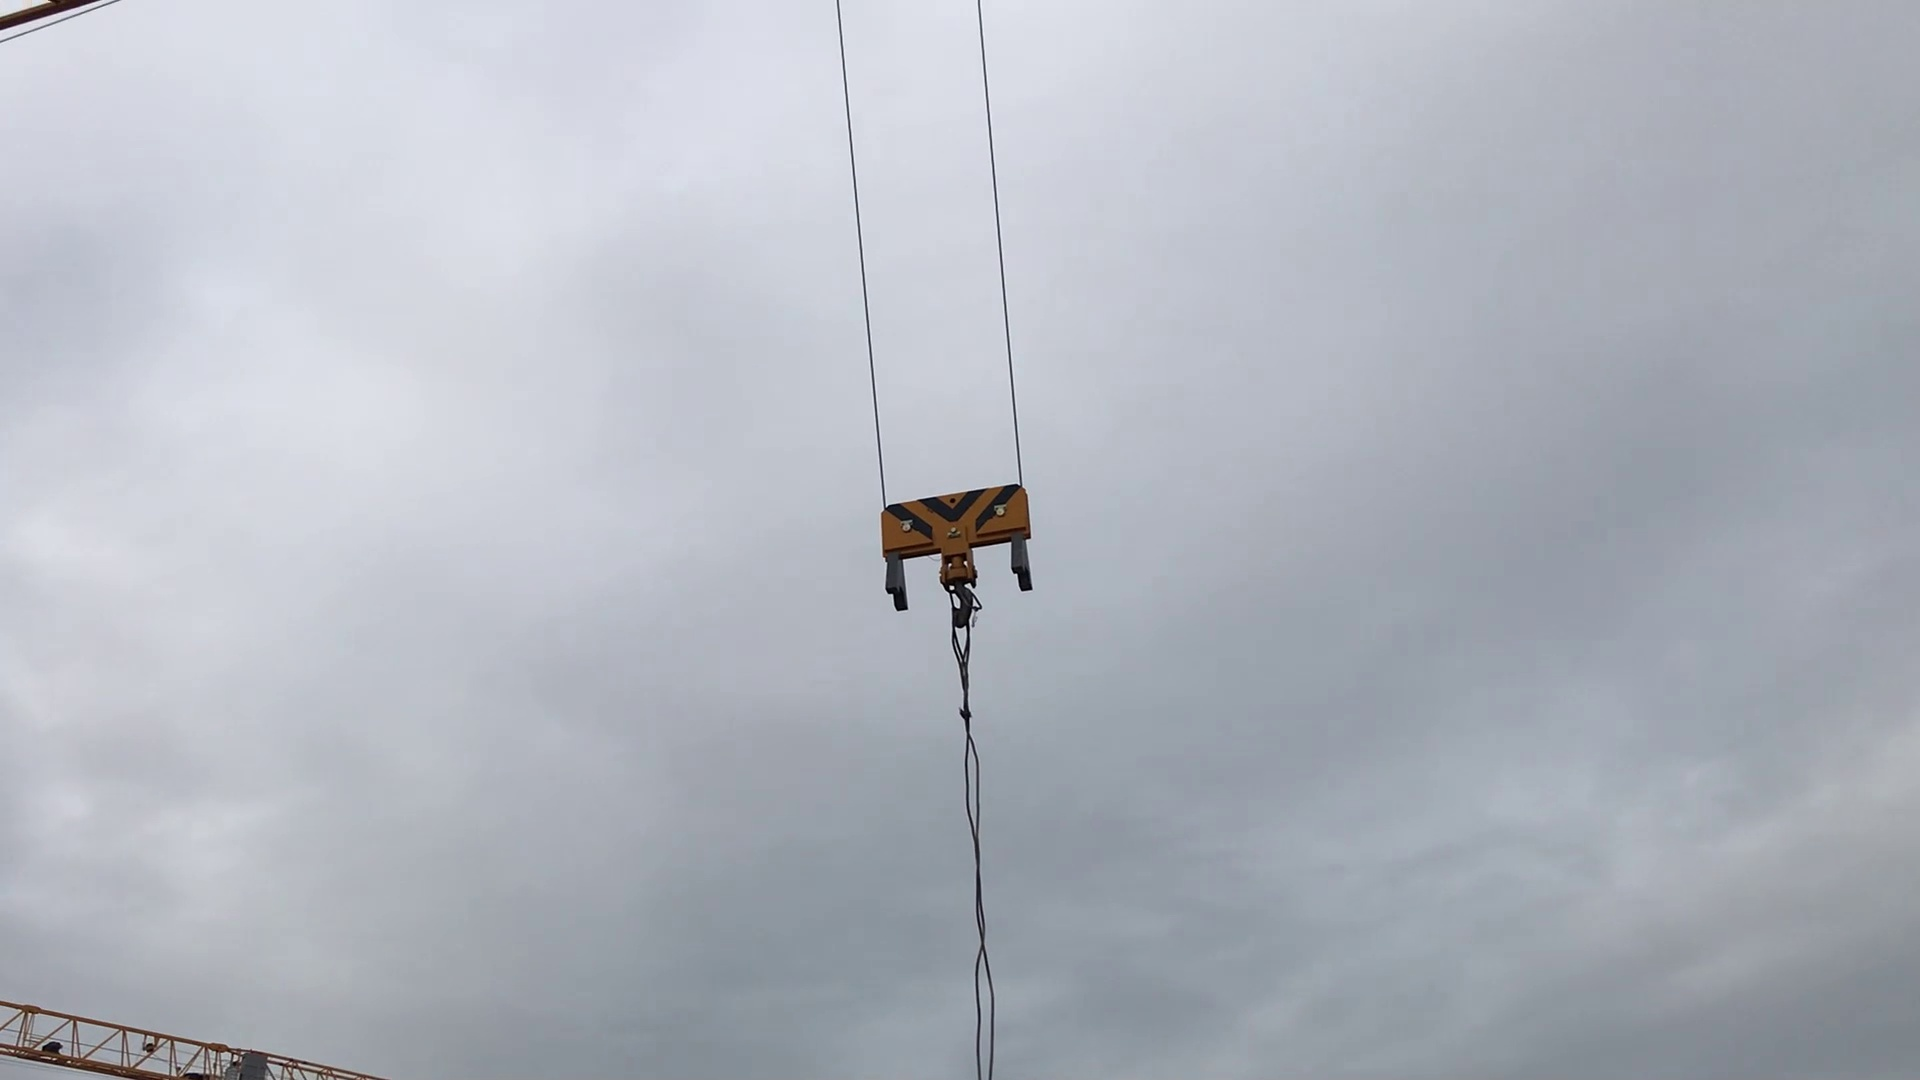hook: (851, 465, 1056, 622)
